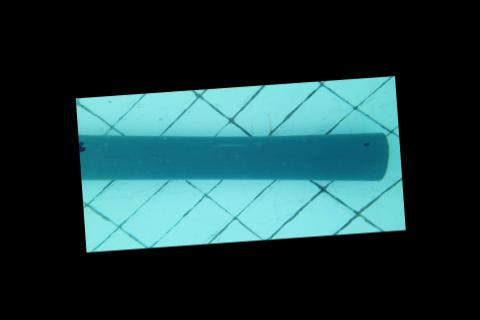kebocoran: (78, 140, 85, 152)
